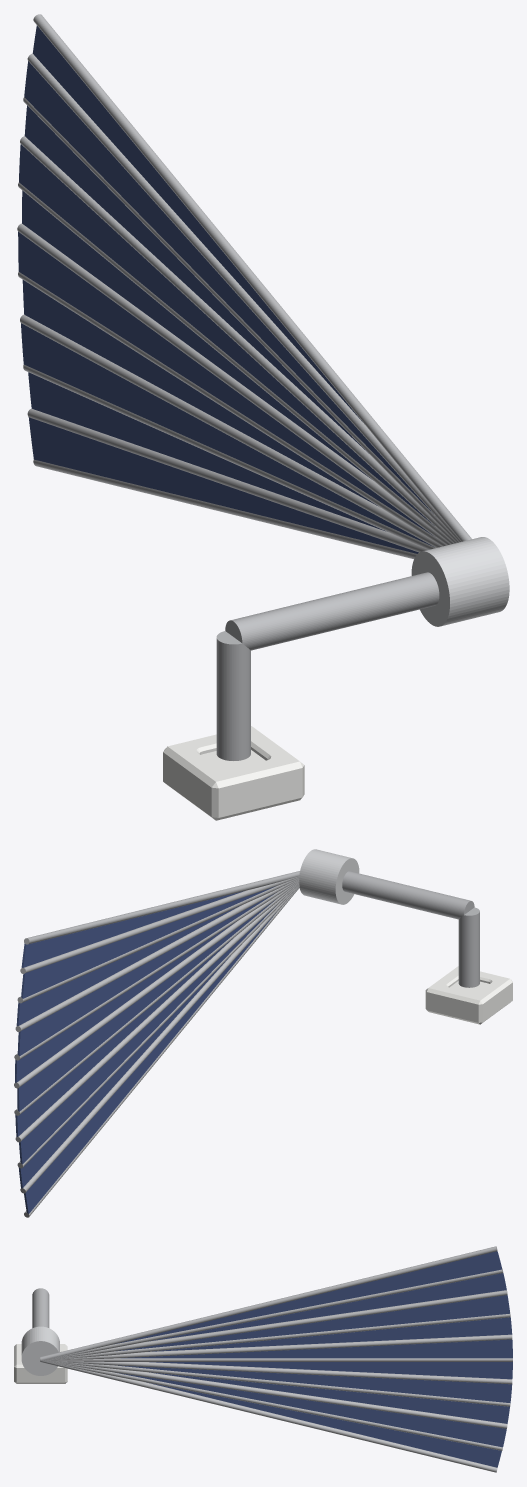
Rendered from ax_power_03_fan_array_m.glb.
The picture shows the model from 3 angles, top to bottom: view 1: azimuth 30°, elevation 25°; view 2: azimuth 150°, elevation 25°; view 3: azimuth 270°, elevation 25°; orthographic projection. The views are drawn at different scales.
Parts seen in each view (by area): view 1: spars, yoke, petal_9, petal_5, petal_7, petal_3, mount_block, petal_1, petal_2, petal_4, hub, petal_6 (+2 smaller); view 2: spars, yoke, petal_1, petal_7, petal_9, petal_5, petal_3, mount_block, petal_10, petal_8, petal_6, petal_4 (+2 smaller); view 3: spars, petal_6, petal_8, petal_2, petal_10, petal_4, petal_7, petal_3, petal_9, petal_1, petal_5, hub (+2 smaller).
Boxes of the visible parts, x1,y1,x2,y2 form: spars: (17,14,471,559); yoke: (216,572,439,760); petal_9: (24,61,433,513); petal_5: (18,231,433,535); petal_7: (19,144,434,525); petal_3: (21,323,433,546); mount_block: (163,726,304,820); petal_1: (28,417,418,553); petal_2: (28,372,385,531); petal_4: (22,280,378,506); hub: (411,537,509,626); petal_6: (22,190,371,479); spars: (14,871,299,1217); yoke: (342,871,479,987); petal_1: (24,913,275,1213); petal_7: (17,893,275,1056); petal_9: (21,886,275,998); petal_5: (17,900,274,1111); petal_3: (19,906,275,1164); mount_block: (425,966,512,1024); petal_10: (21,891,244,967); petal_8: (16,905,241,1025); petal_6: (15,921,236,1082); petal_4: (15,939,232,1136); spars: (40,1246,512,1472); petal_6: (121,1339,512,1358); petal_8: (116,1295,509,1351); petal_2: (115,1372,506,1447); petal_10: (114,1251,502,1344); petal_4: (118,1365,512,1403); petal_7: (148,1317,512,1351); petal_3: (149,1372,509,1423); petal_9: (148,1273,506,1341); petal_1: (146,1382,501,1467); petal_5: (149,1362,512,1379); hub: (21,1326,59,1375).
Size of the model in its own units: 0.837 by 1.16 by 2.33.
